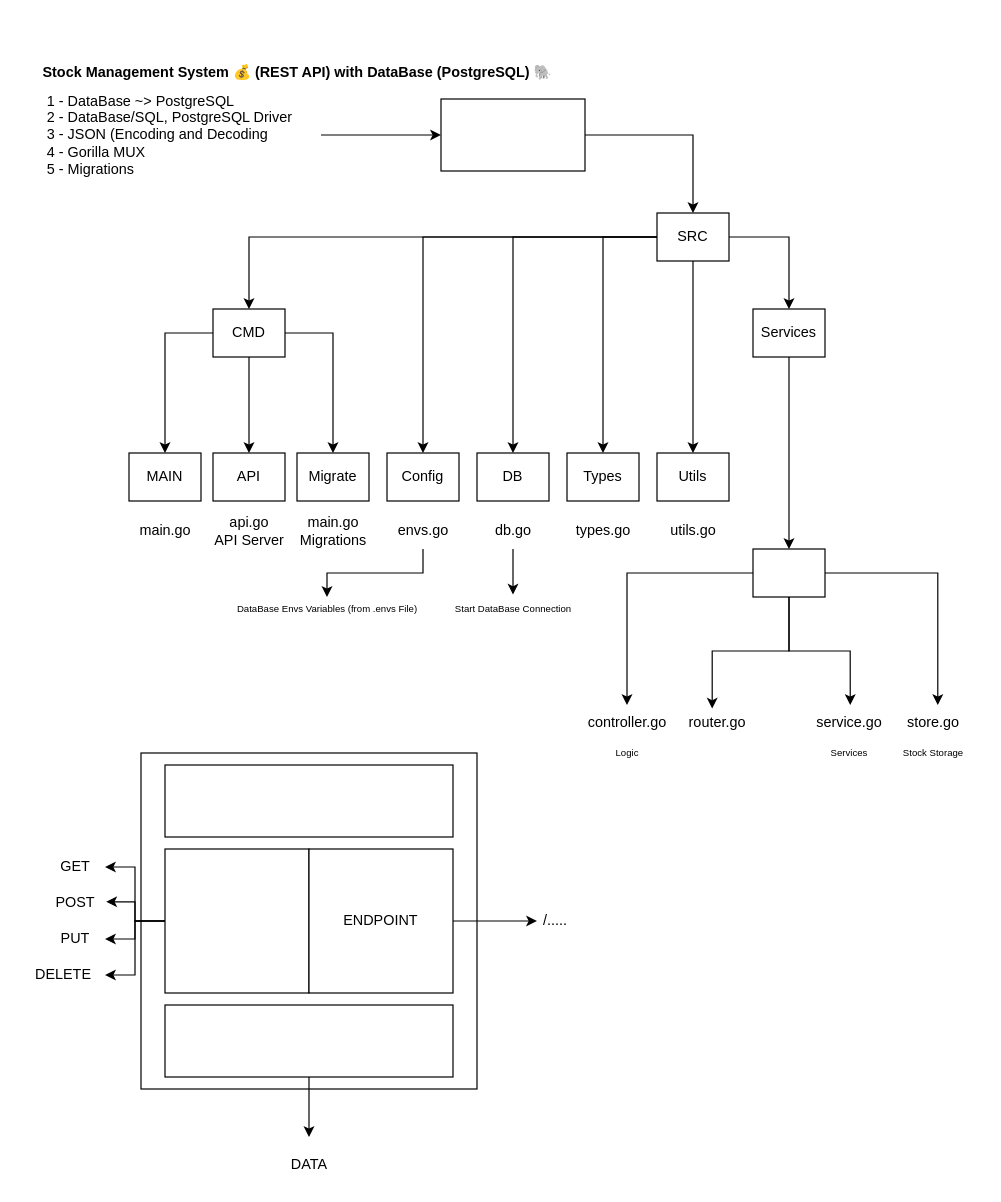
Some shapes in this 1001 by 1202 pixel diagram are drawn without their labels. The centre of each missing label's shape, as x and y in pixels:
BODY: the point at 308,1040
HEADER: the point at 308,800
HTTP METHOD: the point at 236,920
Project Structure: the point at 512,134
Stock: the point at 788,572
